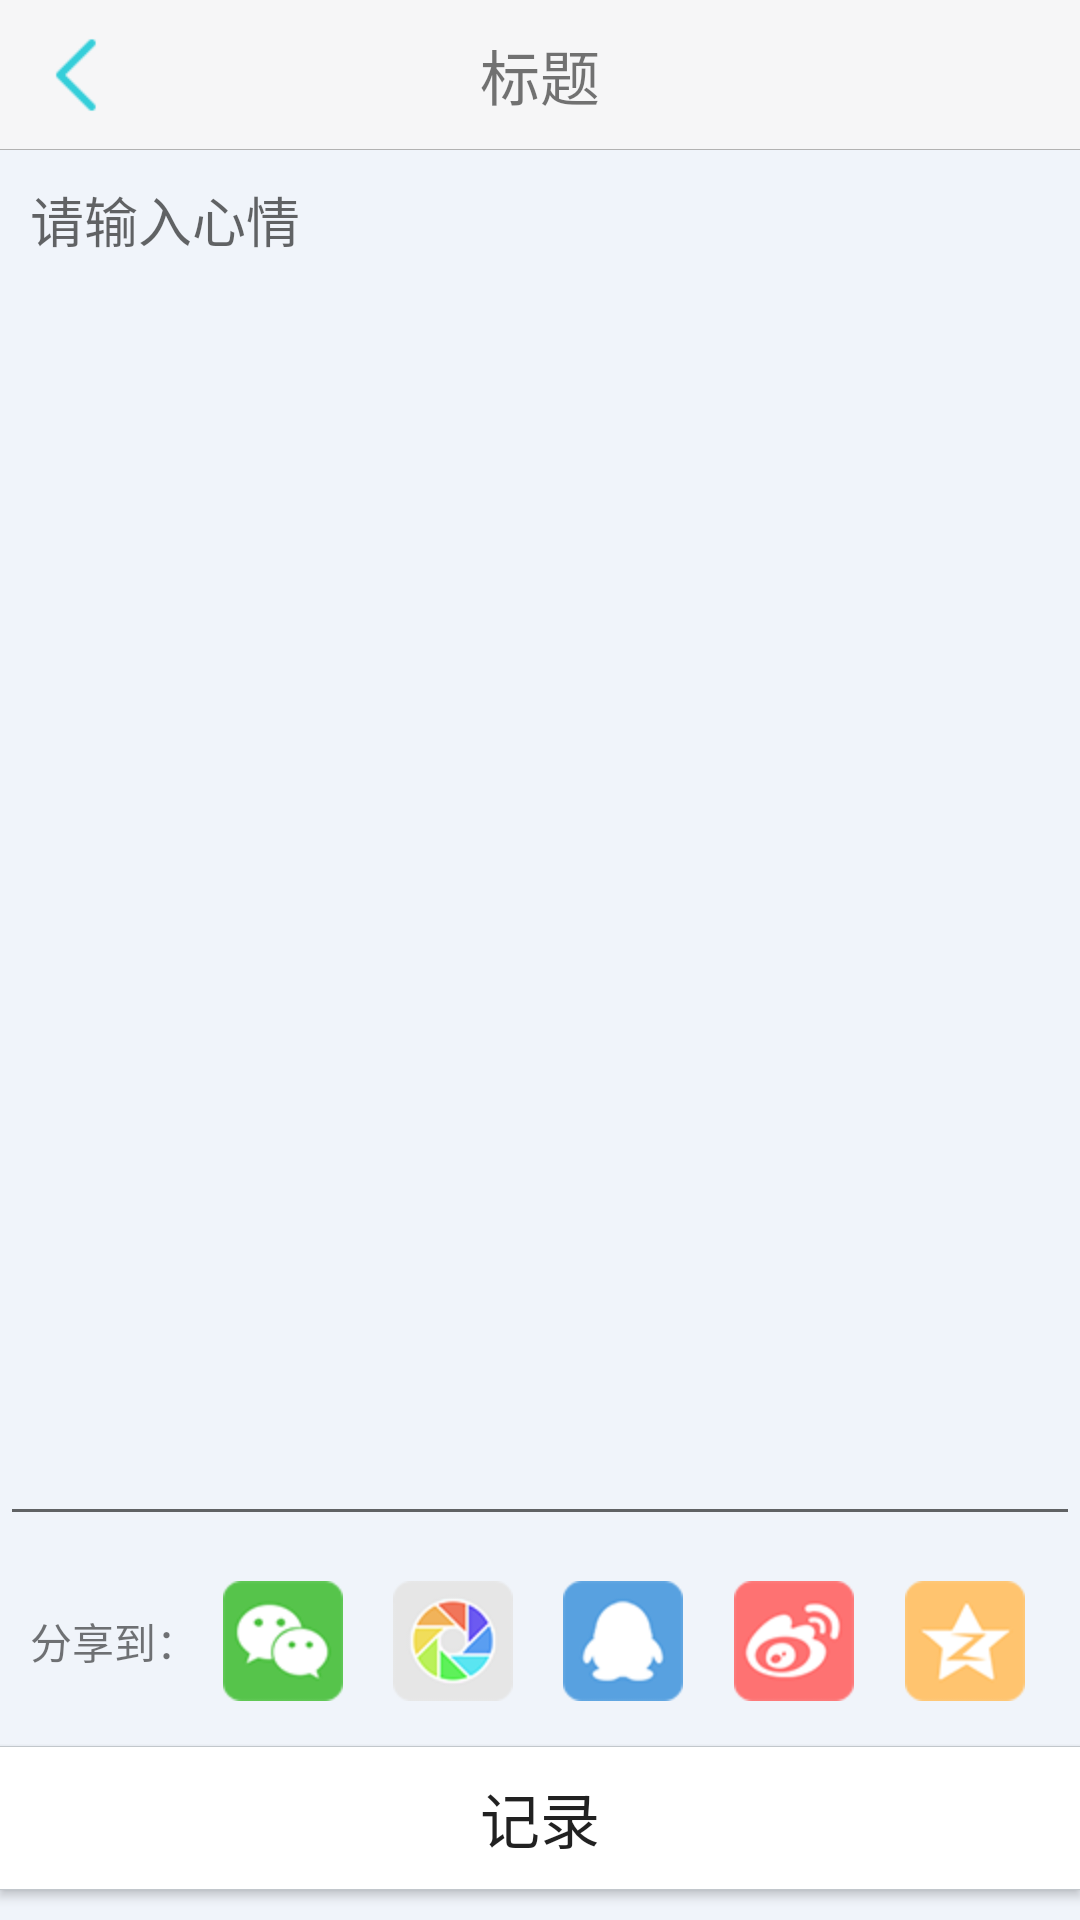

Icons on this 1080×1920 Android screen, each with the point to tap as (x=x, y=y):
explorer backward: (x=76, y=75)
